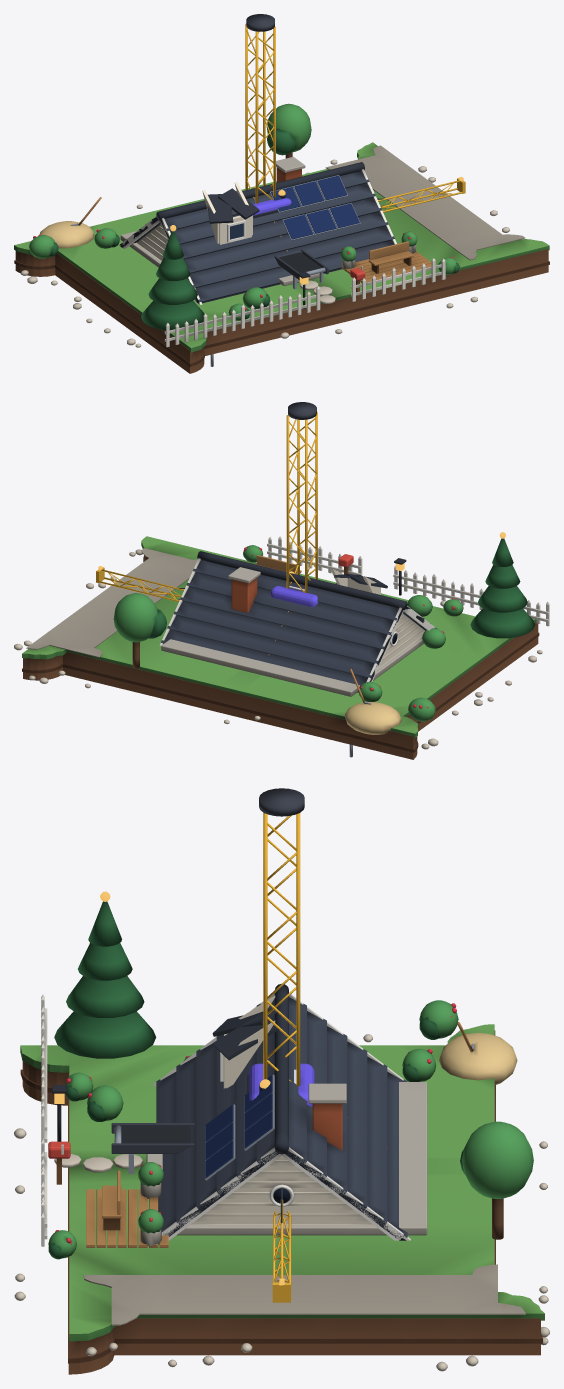
The model's file is bricks.glb.
3 views of the same model, one above another, from view 1: azimuth 30°, elevation 25°; view 2: azimuth 150°, elevation 25°; view 3: azimuth 270°, elevation 25° (orthographic). The views are drawn at different scales.
Visible parts, largest first — view 1: Plot, Roof, CraneMast, Solar, Terrace, Dormer, Conveyor, CraneJib, Machine; view 2: Plot, Roof, CraneMast, CraneJib, Dormer, Machine; view 3: Plot, Roof, CraneMast, Terrace, Solar, Dormer, Conveyor, CraneJib, Machine.
Part boxes in pixels (bbox=[...]): Plot: bbox=[14, 103, 549, 373]; Roof: bbox=[119, 156, 396, 366]; CraneMast: bbox=[245, 14, 275, 203]; Solar: bbox=[269, 175, 360, 240]; Terrace: bbox=[340, 231, 431, 282]; Dormer: bbox=[202, 182, 259, 244]; Conveyor: bbox=[274, 249, 328, 289]; CraneJib: bbox=[377, 176, 465, 212]; Machine: bbox=[253, 189, 291, 218]; Plot: bbox=[14, 532, 549, 759]; Roof: bbox=[159, 551, 437, 757]; CraneMast: bbox=[286, 402, 317, 592]; CraneJib: bbox=[96, 566, 184, 601]; Dormer: bbox=[330, 568, 387, 594]; Machine: bbox=[270, 571, 318, 606]; Plot: bbox=[14, 891, 549, 1374]; Roof: bbox=[152, 984, 410, 1240]; CraneMast: bbox=[259, 788, 304, 1086]; Terrace: bbox=[86, 1162, 168, 1247]; Solar: bbox=[205, 1074, 274, 1180]; Dormer: bbox=[212, 995, 277, 1088]; Conveyor: bbox=[111, 1123, 194, 1173]; CraneJib: bbox=[272, 1187, 291, 1302]; Machine: bbox=[247, 1063, 314, 1106].
Bounding box in the file's own units: 1.14 × 0.7742 × 0.819.
